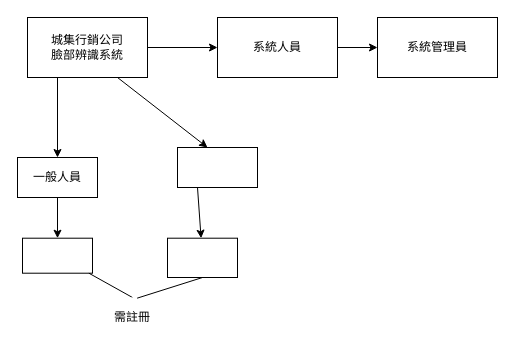
The diagram is 515 pixels wide and 355 high, and some of its shapes have lost their labels. Here are the shapes that lost their labels. From the top down, the box of each, then its label:
(176, 146, 258, 188): 工作人員
(22, 237, 92, 273): 會員
(166, 237, 238, 278): 業務員
